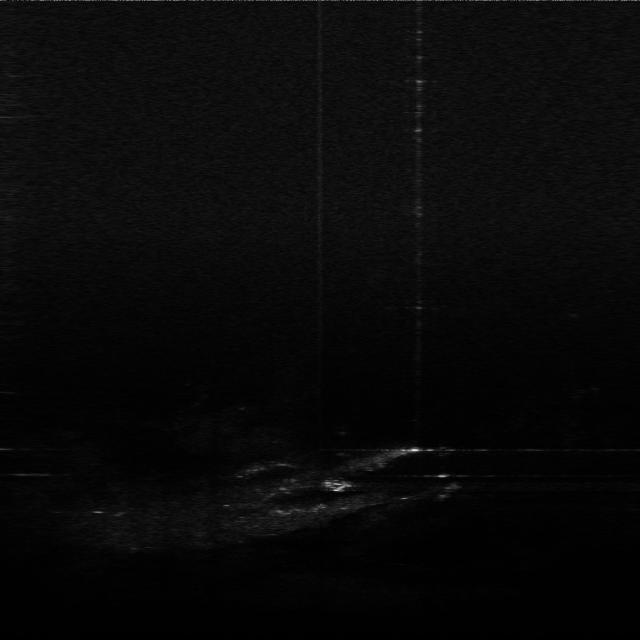rov: (320, 473, 354, 495)
